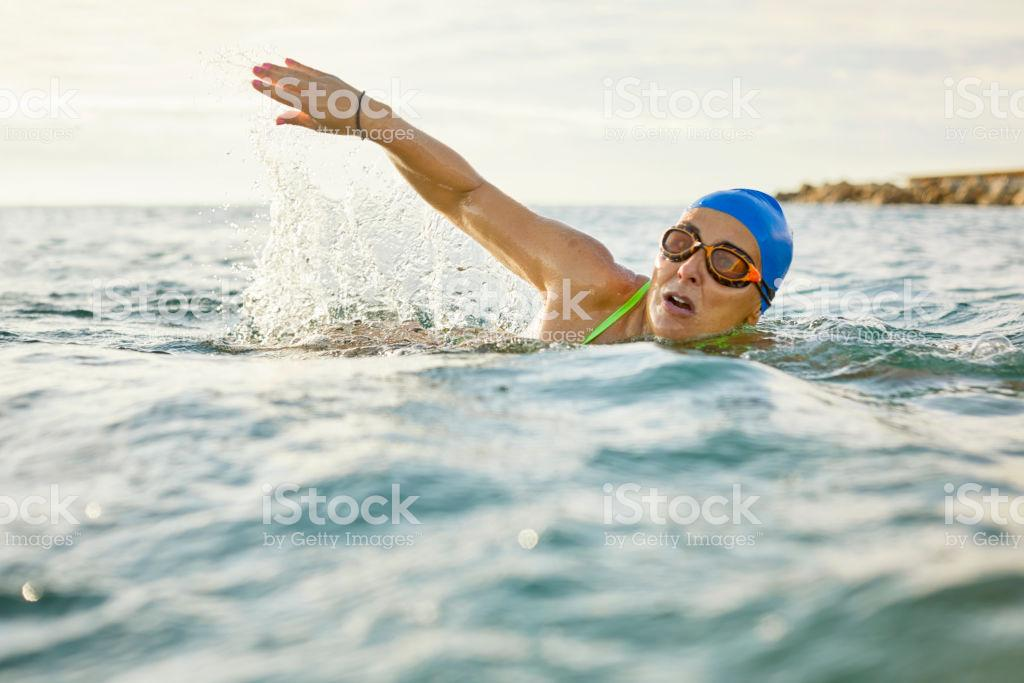swimmer: (246, 53, 794, 367)
